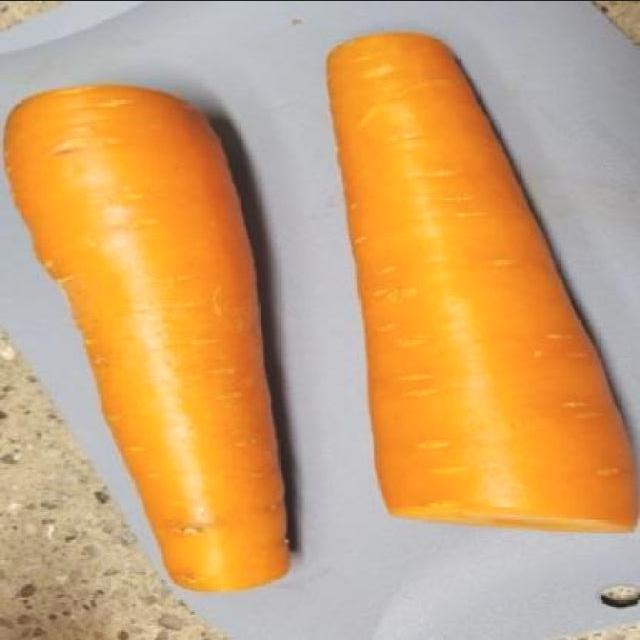carrot: (319, 29, 640, 535), (2, 80, 300, 591)
